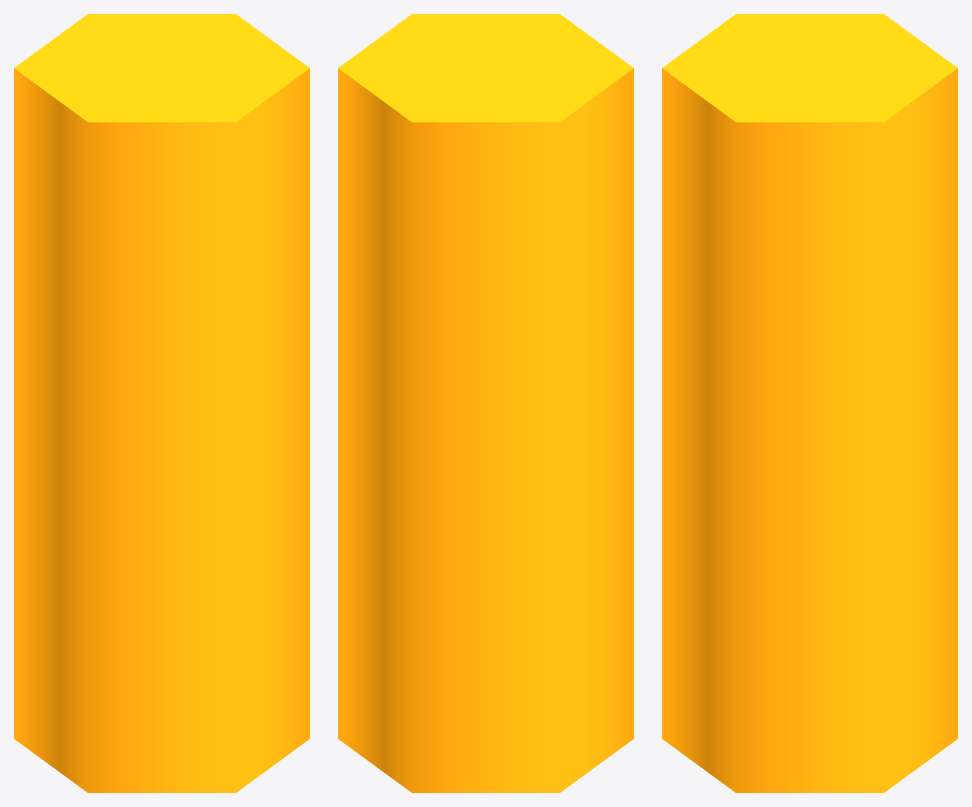
Rendered from mcp-server.glb.
3 views of the same model, side by side, from view 1: azimuth 30°, elevation 25°; view 2: azimuth 150°, elevation 25°; view 3: azimuth 270°, elevation 25° (orthographic).
Bounding box in the file's own units: 0.6928 × 2 × 0.8.
